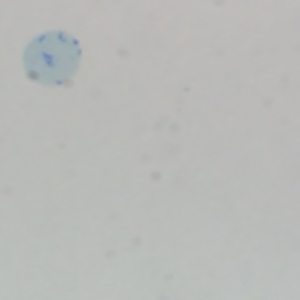aggregate reticulocyte: (19, 29, 84, 90)
